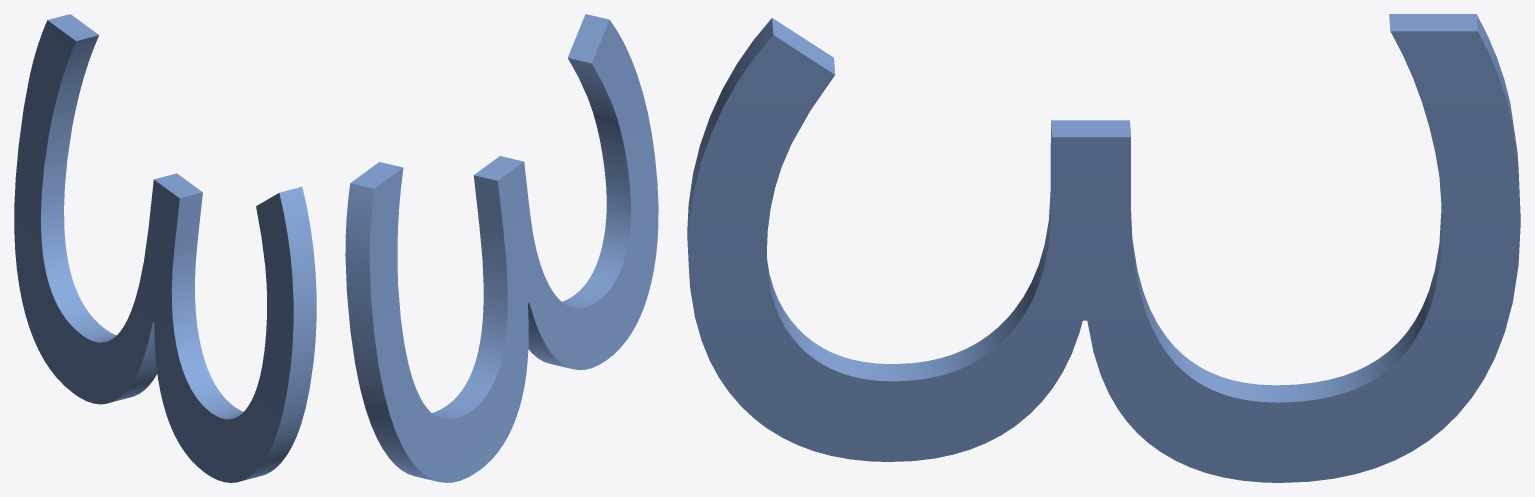
Rendered from New_Number_3.gltf.
3 renders of one model, left to right at view 1: azimuth 30°, elevation 25°; view 2: azimuth 150°, elevation 25°; view 3: azimuth 270°, elevation 25°, orthographic. The views are drawn at different scales.
Visible parts, largest first — view 1: Part 264; view 2: Part 264; view 3: Part 264.
Part boxes in pixels (bbox=[...]): Part 264: bbox=[14, 14, 316, 482]; Part 264: bbox=[345, 14, 658, 482]; Part 264: bbox=[687, 14, 1520, 482].
Size of the model in its own units: 0.000677 by 0.0033 by 0.00519.
